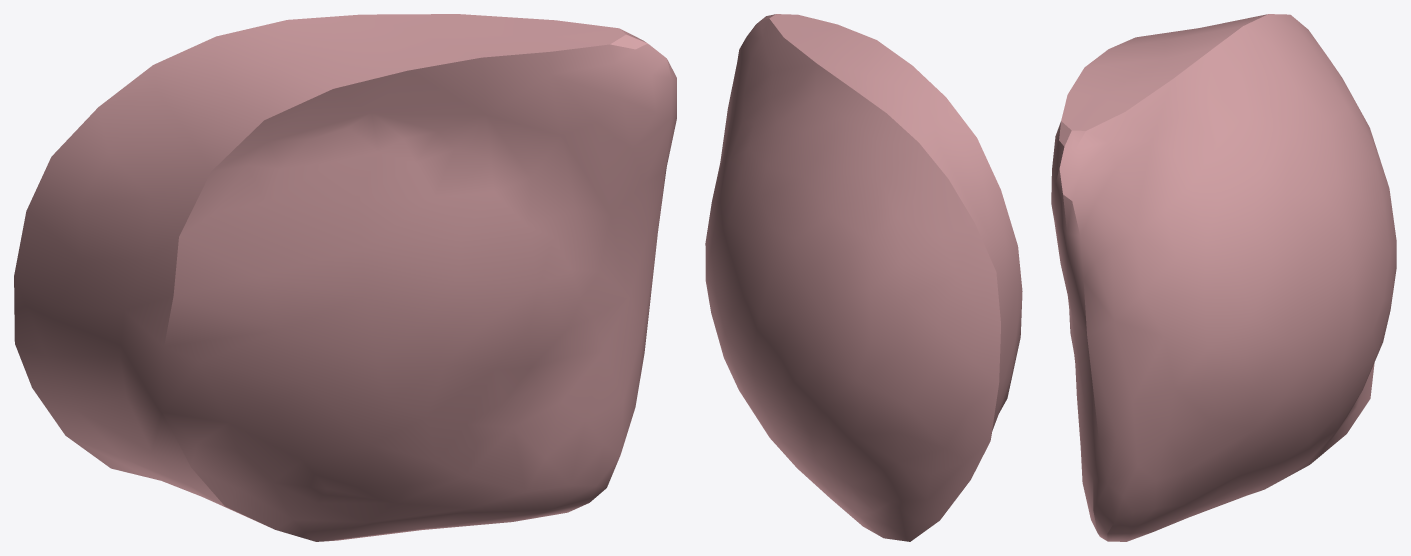
The model's file is fma78488-l_mm3086.glb.
3 views of the same model, side by side, from view 1: azimuth 30°, elevation 25°; view 2: azimuth 150°, elevation 25°; view 3: azimuth 270°, elevation 25° (orthographic). The views are drawn at different scales.
Parts seen in each view (by area): view 1: FMA78488-L_MM3086; view 2: FMA78488-L_MM3086; view 3: FMA78488-L_MM3086.
Part boxes in pixels (x1,y1,x2,y2): FMA78488-L_MM3086: (14, 14, 676, 541); FMA78488-L_MM3086: (705, 14, 1022, 541); FMA78488-L_MM3086: (1051, 14, 1396, 541).
Size of the model in its own units: 0.0031 by 0.00311 by 0.00212.
